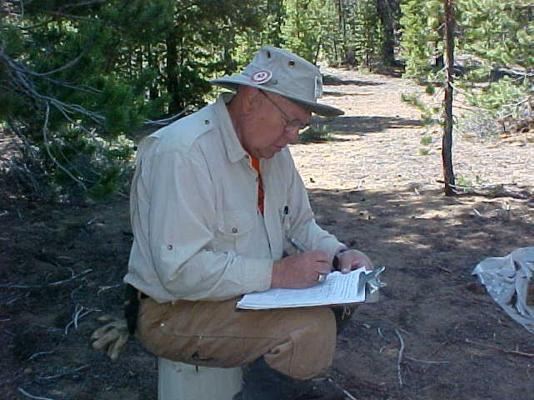person: (123, 48, 379, 395)
